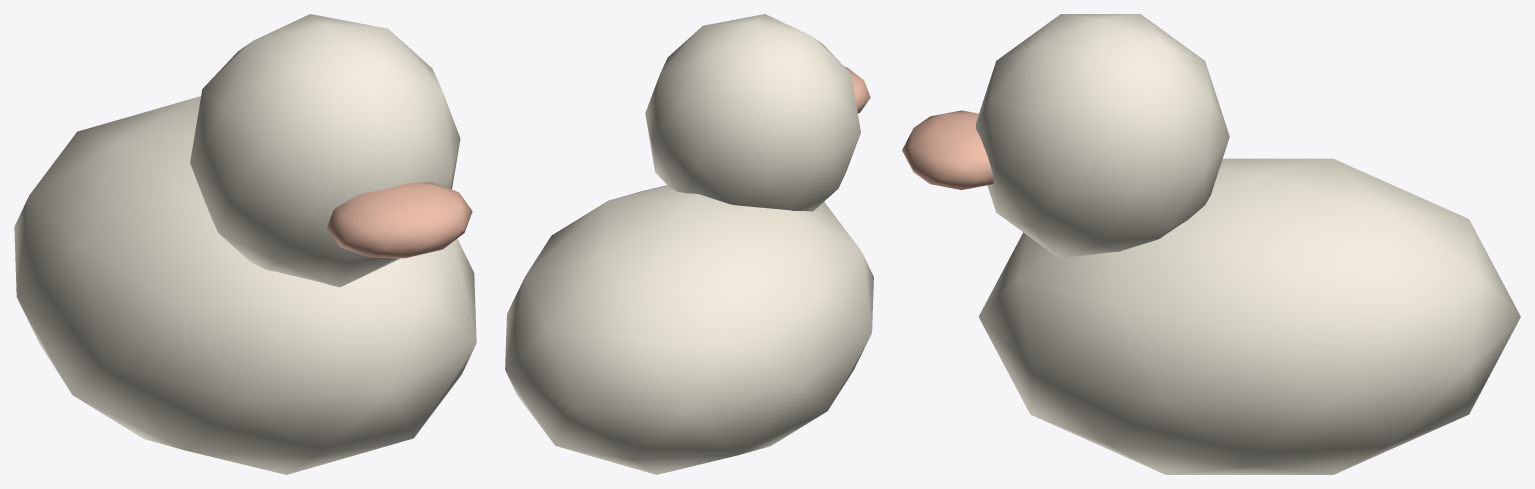
The model's file is rubber_duck_toy.glb.
3 views of the same model, side by side, from view 1: azimuth 30°, elevation 25°; view 2: azimuth 150°, elevation 25°; view 3: azimuth 270°, elevation 25° (orthographic). The views are drawn at different scales.
Visible parts, largest first — view 1: rubber_duck_toy_body, rubber_duck_toy_head, rubber_duck_toy_beak; view 2: rubber_duck_toy_body, rubber_duck_toy_head, rubber_duck_toy_beak; view 3: rubber_duck_toy_body, rubber_duck_toy_head, rubber_duck_toy_beak.
Part boxes in pixels (<box>): rubber_duck_toy_body: <box>14,96,476,474</box>; rubber_duck_toy_head: <box>190,14,460,287</box>; rubber_duck_toy_beak: <box>327,182,472,258</box>; rubber_duck_toy_body: <box>505,185,873,474</box>; rubber_duck_toy_head: <box>645,14,860,211</box>; rubber_duck_toy_beak: <box>845,67,870,113</box>; rubber_duck_toy_body: <box>978,158,1520,474</box>; rubber_duck_toy_head: <box>975,14,1229,257</box>; rubber_duck_toy_beak: <box>902,110,993,190</box>.
Size of the model in its own units: 0.0799 by 0.0975 by 0.1246.
